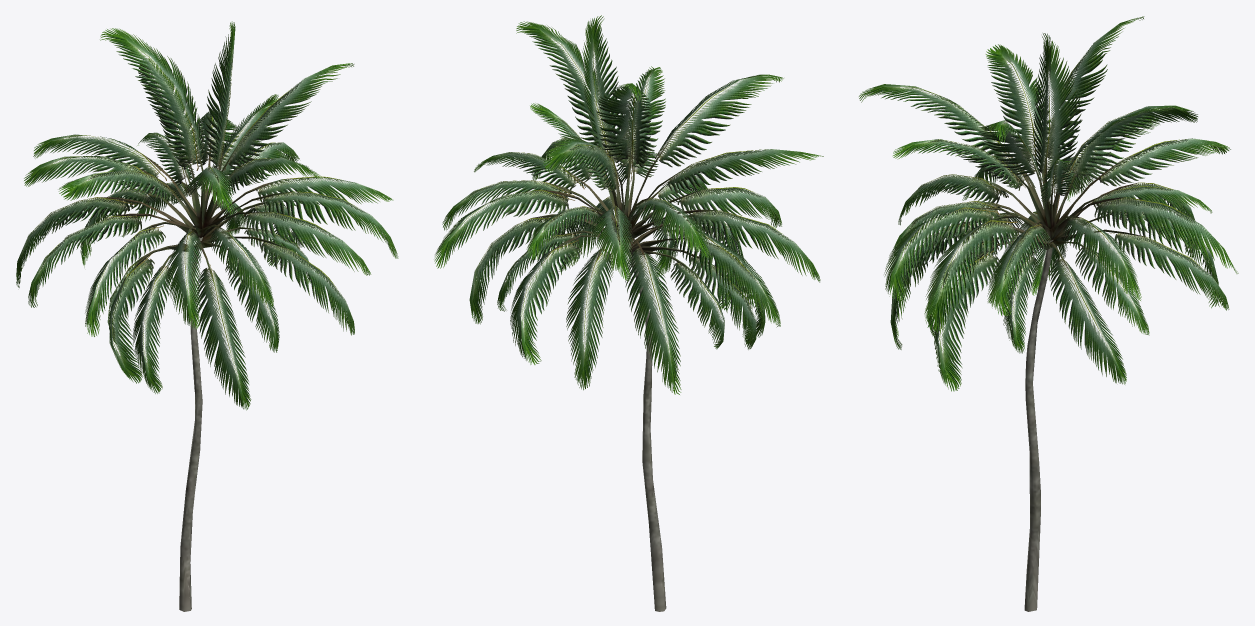
Rendered from tree-palm.lod0.glb.
The picture shows the model from 3 angles, left to right: view 1: azimuth 30°, elevation 25°; view 2: azimuth 150°, elevation 25°; view 3: azimuth 270°, elevation 25°; orthographic projection. The views are drawn at different scales.
Parts seen in each view (by area): view 1: SM_MZRa_Palm_B082_MI_MZRa_Palm_B08a_0, SM_MZRa_Palm_B082_MI_MZRa_Palm_B08b_0; view 2: SM_MZRa_Palm_B082_MI_MZRa_Palm_B08a_0, SM_MZRa_Palm_B082_MI_MZRa_Palm_B08b_0; view 3: SM_MZRa_Palm_B082_MI_MZRa_Palm_B08a_0, SM_MZRa_Palm_B082_MI_MZRa_Palm_B08b_0.
Part boxes in pixels (box(x1,y1,x2,y2)): SM_MZRa_Palm_B082_MI_MZRa_Palm_B08a_0: box(16, 21, 398, 410); SM_MZRa_Palm_B082_MI_MZRa_Palm_B08b_0: box(97, 133, 291, 611); SM_MZRa_Palm_B082_MI_MZRa_Palm_B08a_0: box(434, 15, 823, 394); SM_MZRa_Palm_B082_MI_MZRa_Palm_B08b_0: box(533, 131, 719, 611); SM_MZRa_Palm_B082_MI_MZRa_Palm_B08a_0: box(859, 16, 1238, 391); SM_MZRa_Palm_B082_MI_MZRa_Palm_B08b_0: box(949, 126, 1144, 611).
Bounding box in the file's own units: 6.34 × 10 × 5.73.
Materials: 2 (2 with a texture image).
